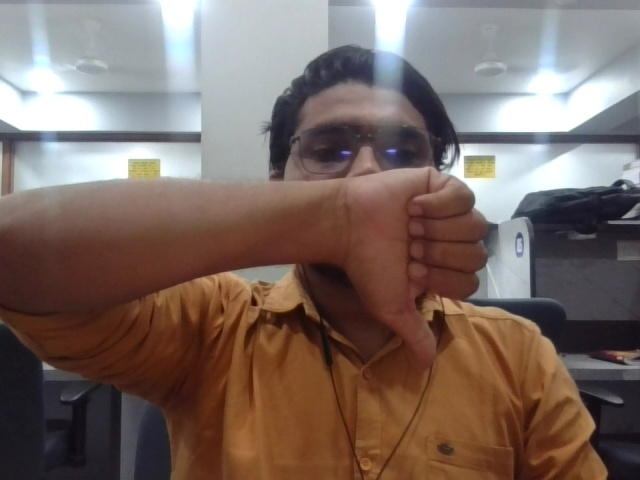ThumbsDown: (348, 174, 489, 357)
